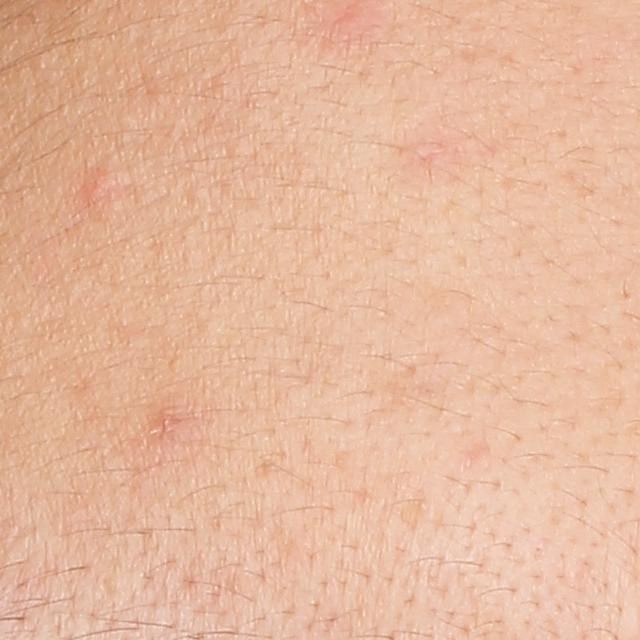papule: (82, 165, 115, 205)
